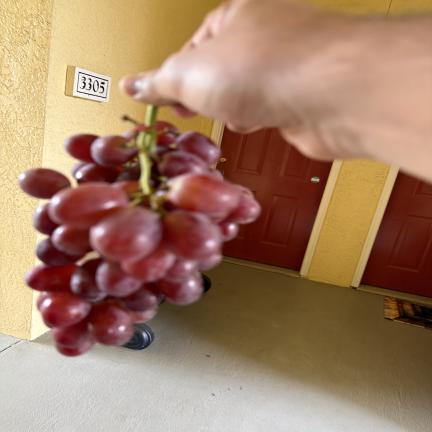grape_cluster: (18, 106, 261, 356)
